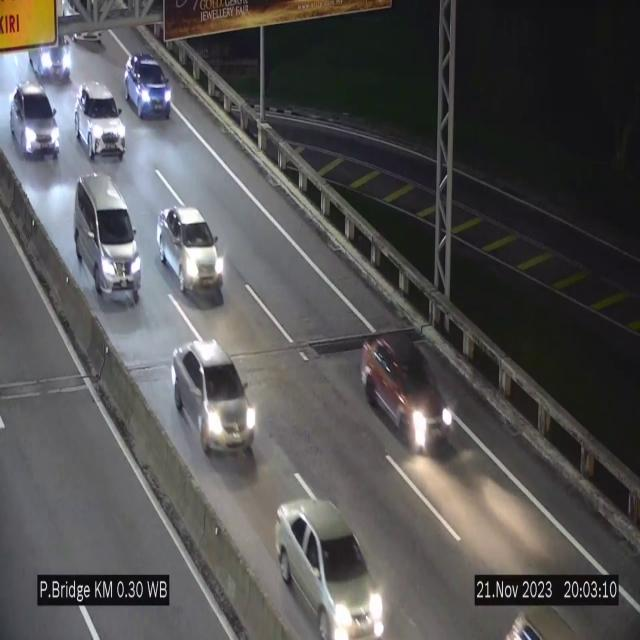Car: (263, 498, 392, 640), (364, 334, 458, 461), (169, 338, 257, 465), (74, 175, 140, 302), (156, 206, 224, 302), (75, 82, 126, 160), (26, 11, 72, 89), (11, 85, 59, 158), (125, 53, 172, 118)
